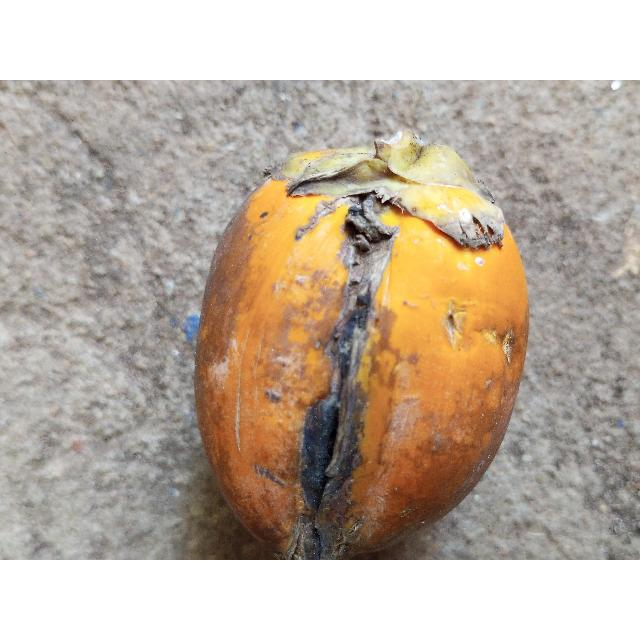damaged: (194, 132, 530, 560)
